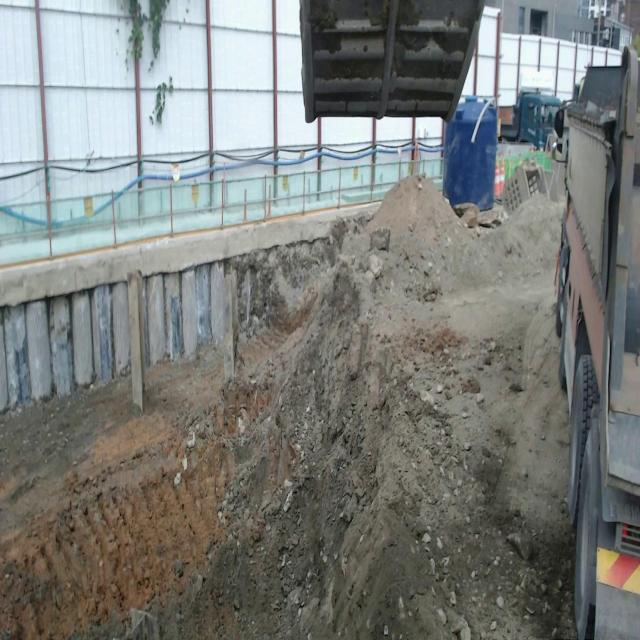red-sand: (0, 179, 575, 639)
